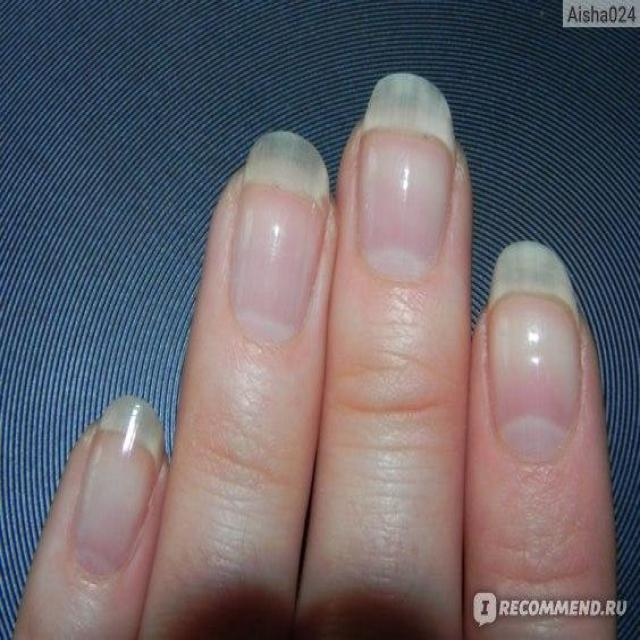Nail: (230, 131, 330, 345), (487, 242, 582, 462), (359, 73, 456, 282), (71, 395, 164, 580)
